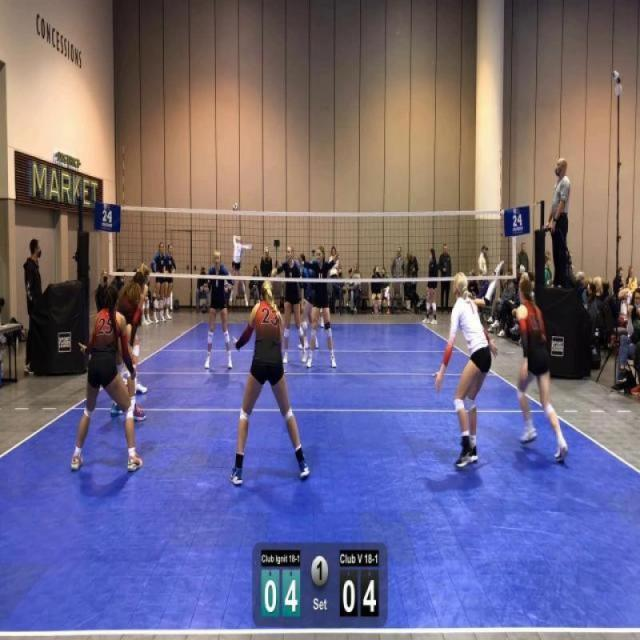volleyball: (232, 200, 239, 212)
